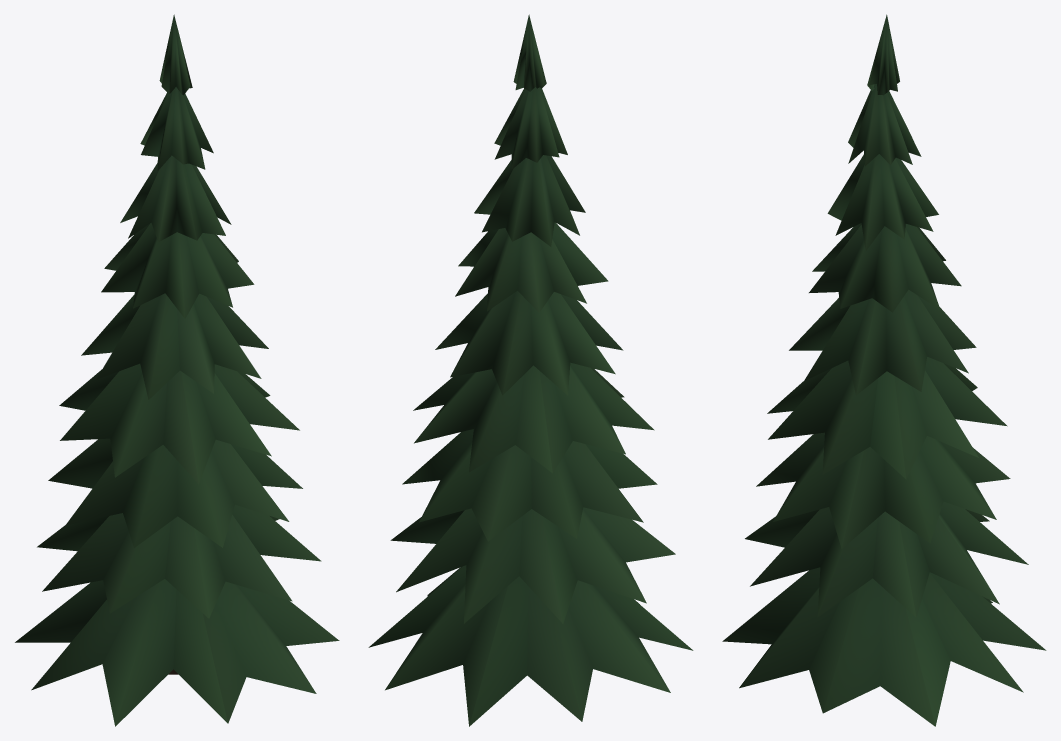
The model's file is env_spruce_a.glb.
The picture shows the model from 3 angles, left to right: view 1: azimuth 30°, elevation 25°; view 2: azimuth 150°, elevation 25°; view 3: azimuth 270°, elevation 25°; orthographic projection.
Parts seen in each view (by area): view 1: env_spruce_a; view 2: env_spruce_a; view 3: env_spruce_a.
Part boxes in pixels (x1,y1,x2,y2): env_spruce_a: [15, 14, 339, 726]; env_spruce_a: [368, 14, 693, 726]; env_spruce_a: [722, 14, 1046, 726].
Size of the model in its own units: 6.69 by 15 by 6.76.
